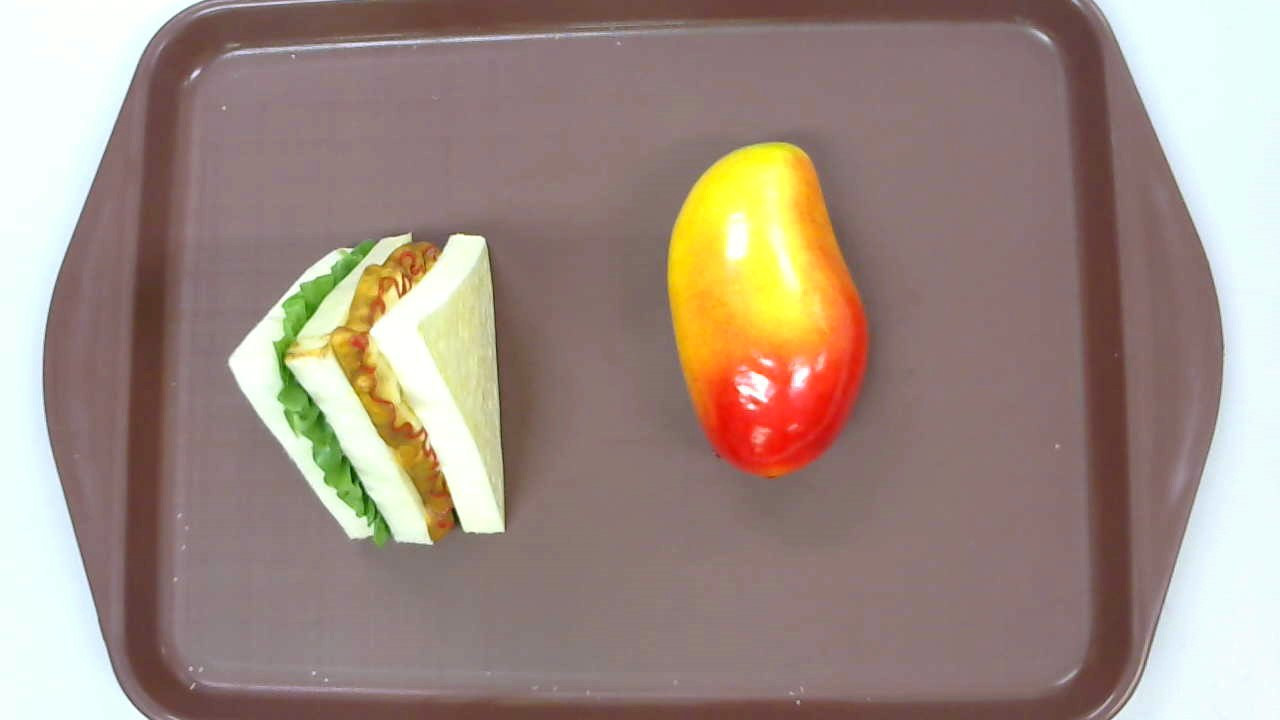red mango: (667, 141, 869, 478)
sandwich: (227, 229, 504, 546)
